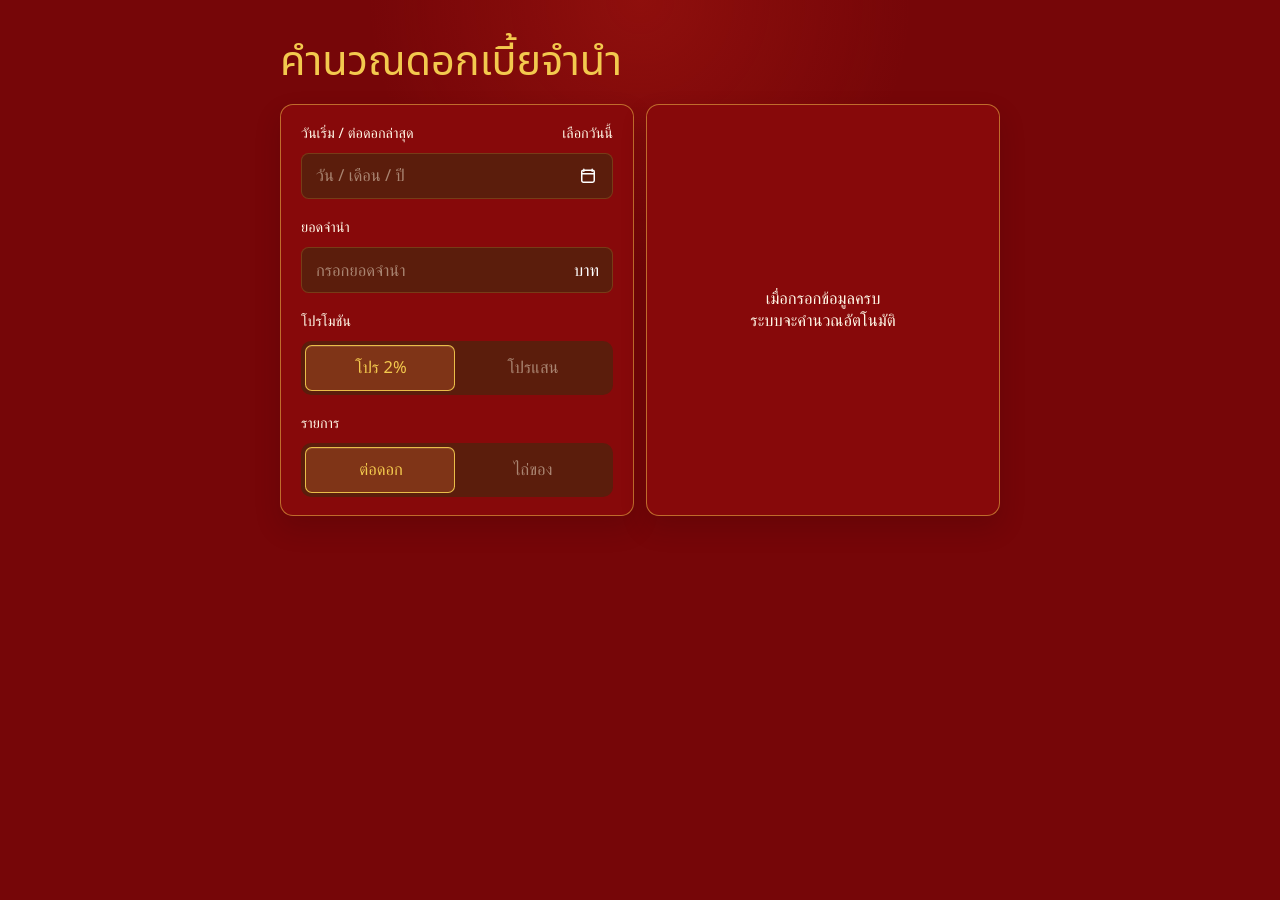
it: ManualCalculator › shows the calculated result after valid input
Step 1. Click the button with aria-label "วันเริ่ม / ต่อดอกล่าสุด" → point(360, 176), box [301,153,613,199]
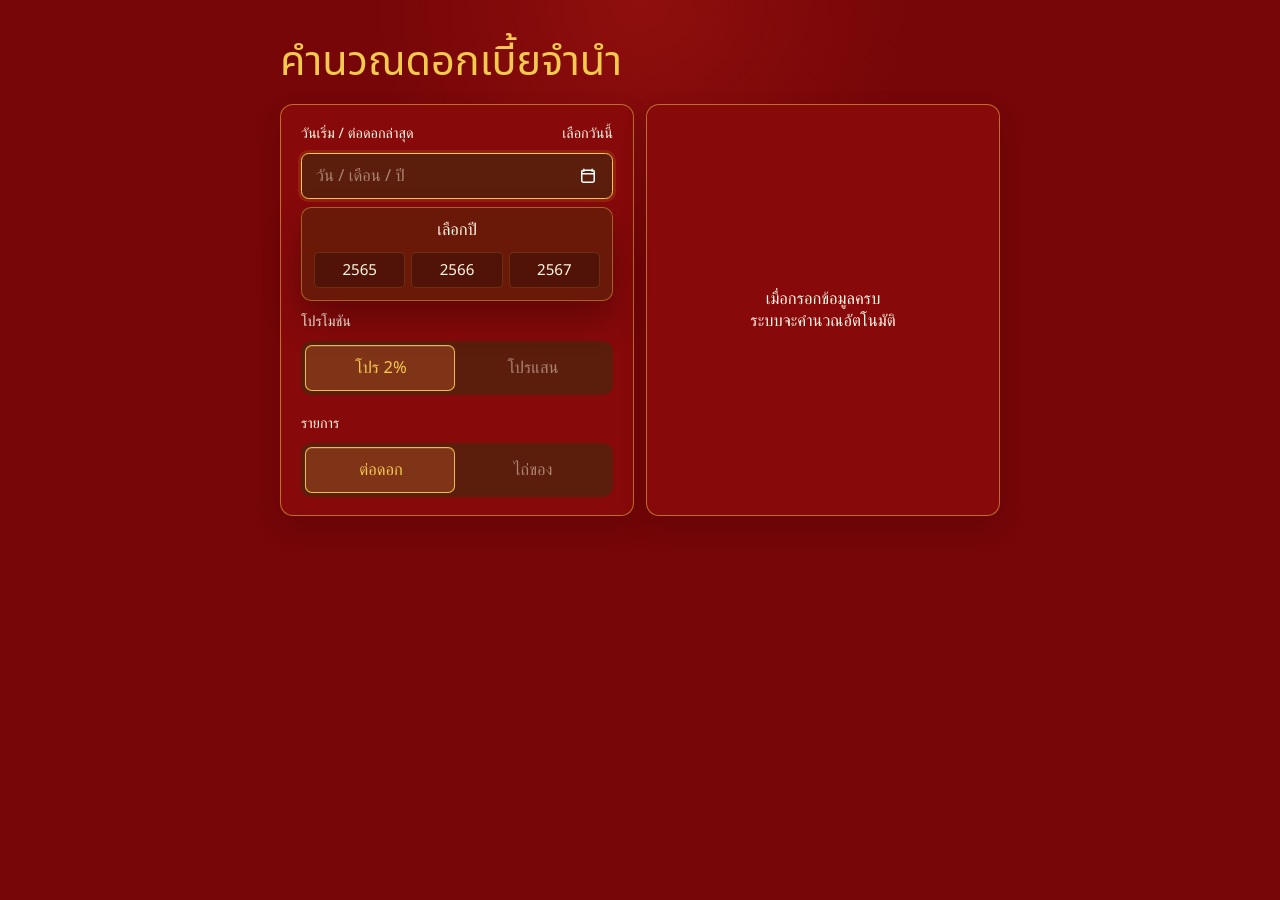
Step 2. Click the button "2567" → point(554, 270), box [509,252,600,288]
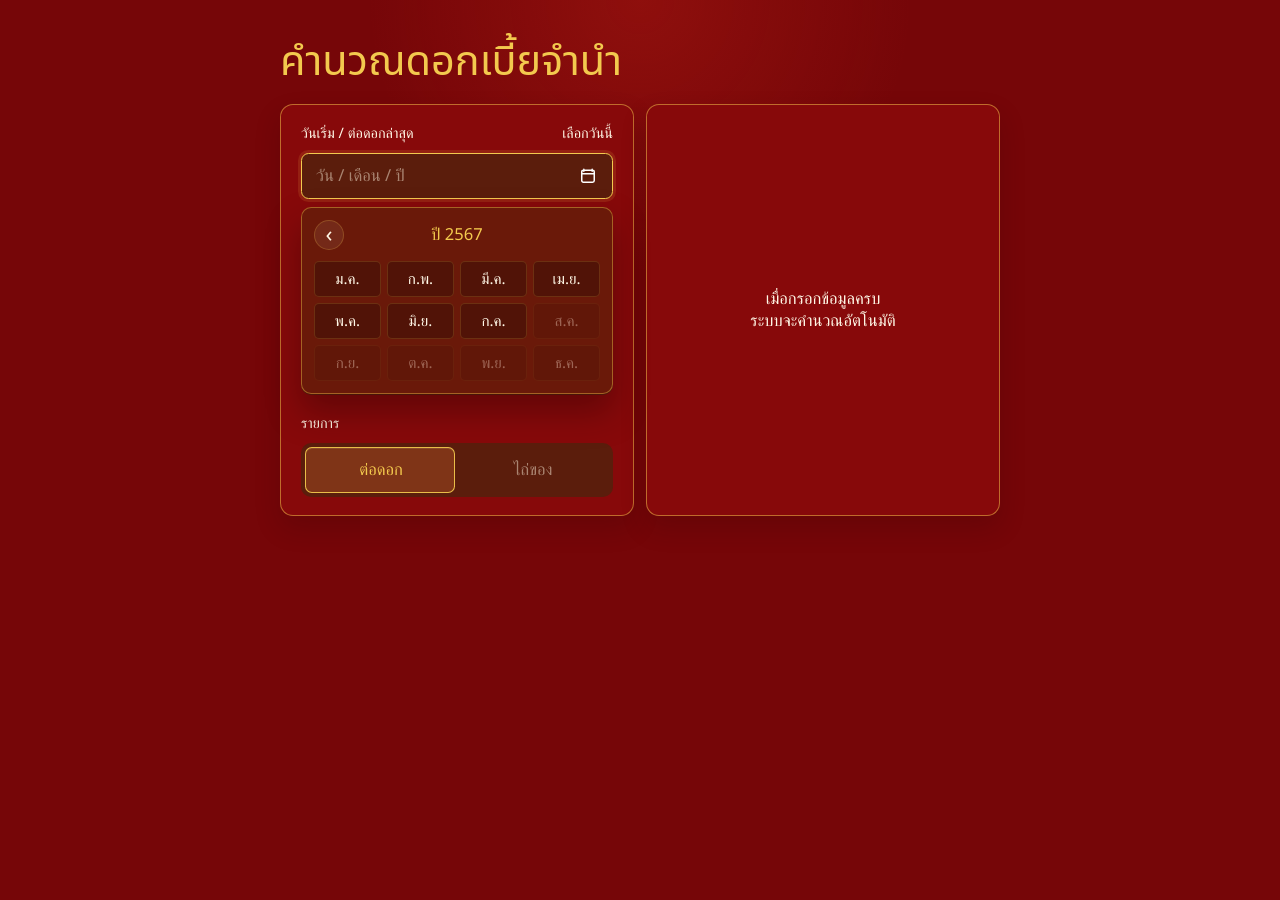
Step 3. Click the button "มิ.ย." → point(420, 321), box [387,303,454,339]
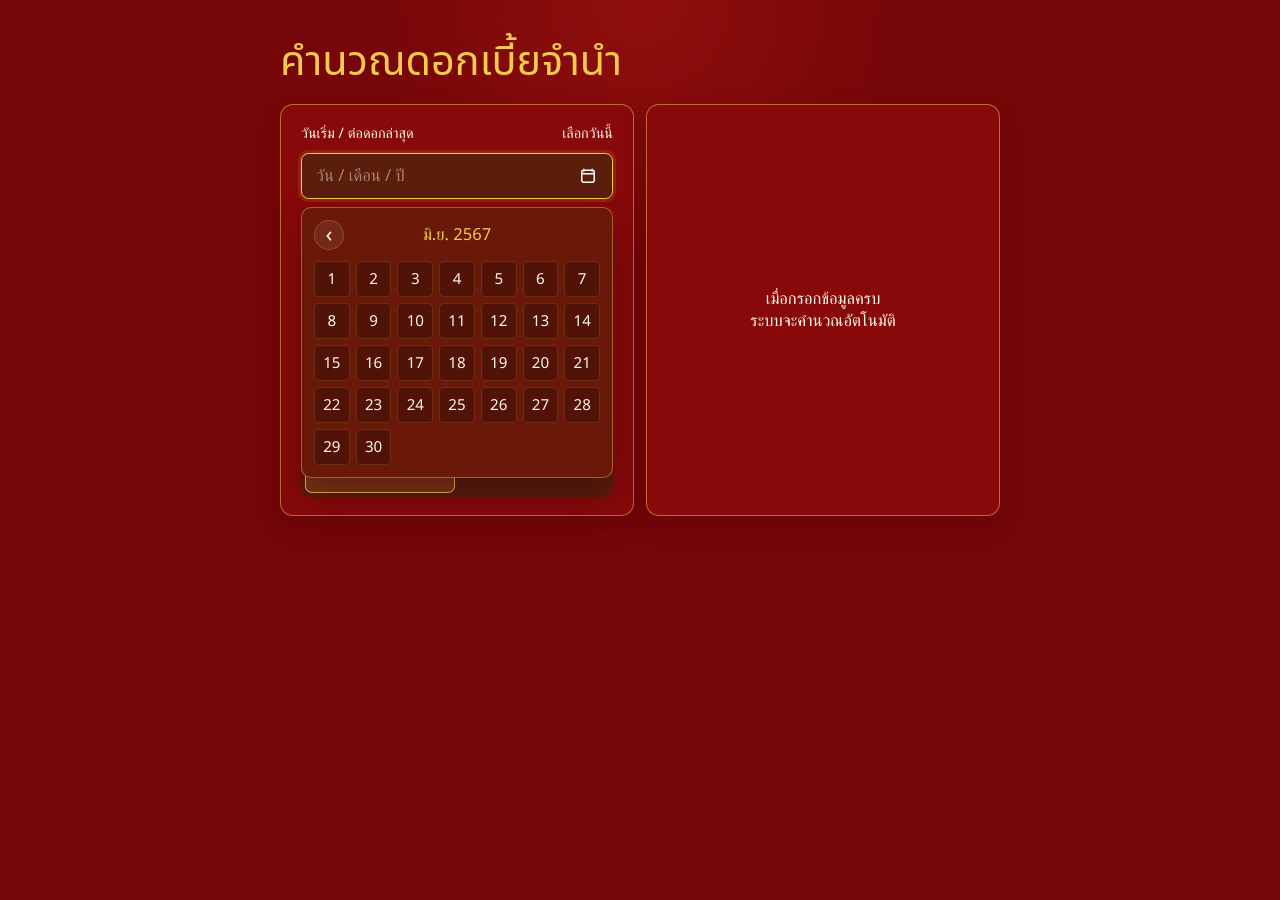
Step 4. Click the button "10" → point(415, 321), box [397,303,433,339]
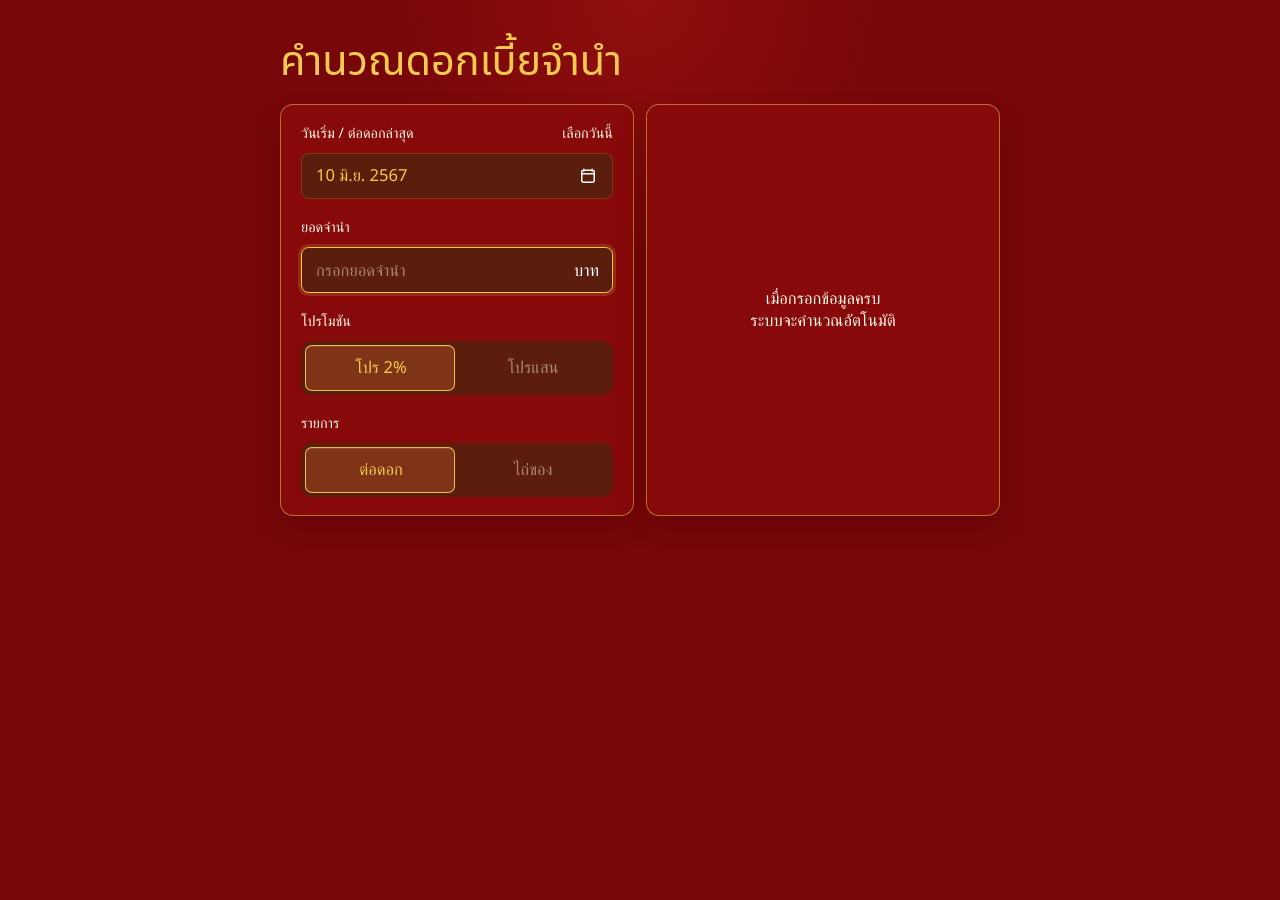
Step 5. Type "10000" into the field labelled "ยอดจำนำ" → point(457, 270), box [301,247,613,293]
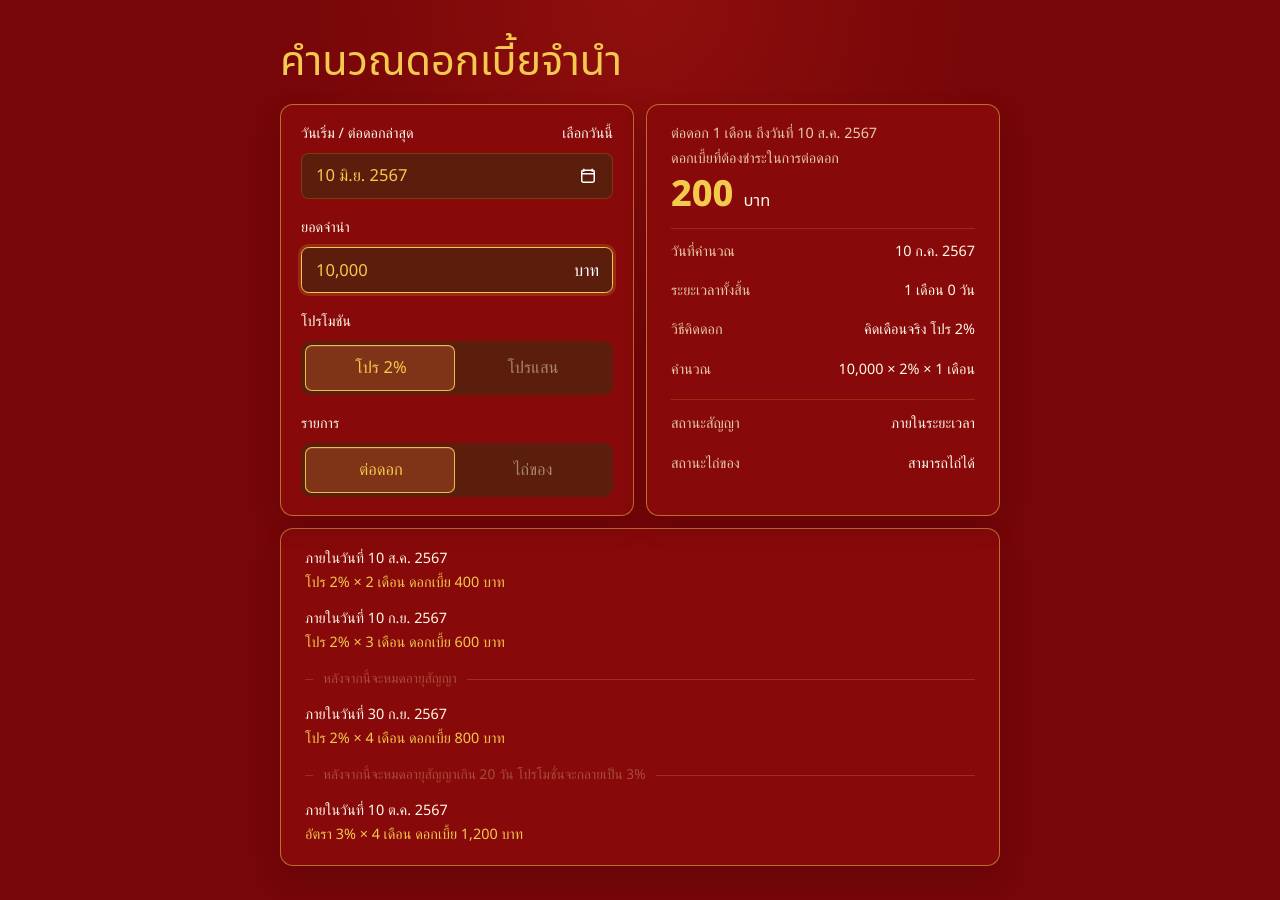
Now the text "ดอกเบี้ยที่ต้องชำระในการต่อดอก" is shown, box [671,148,839,169]
Now the text "200" is shown, box [671,168,733,222]
Now the text "10,000 × 2% × 1 เดือน" is shown, box [838,359,975,380]
